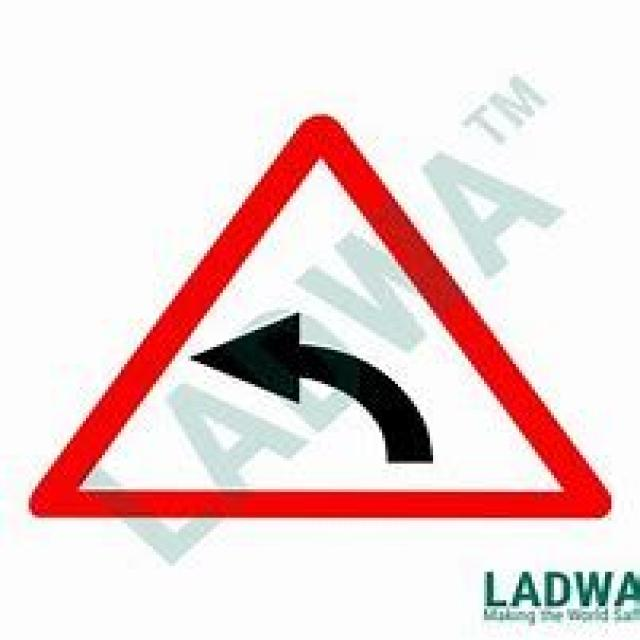LEFT_HAND_CURVE: (29, 114, 616, 520)
